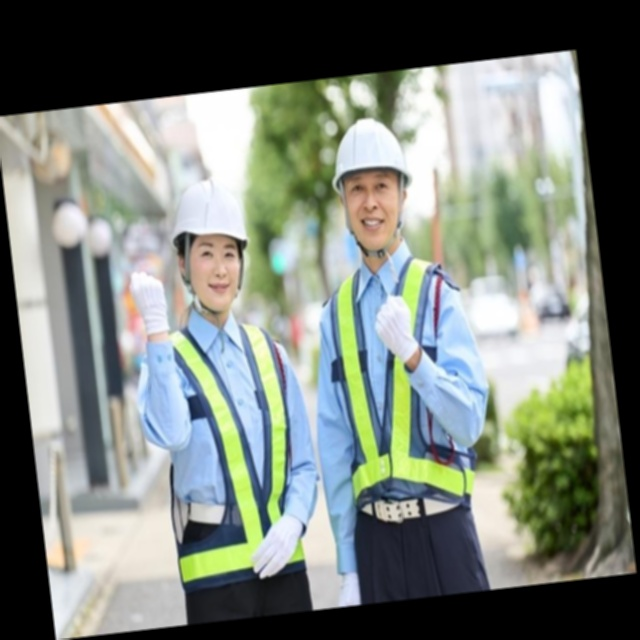Con_Casco: (325, 114, 419, 256), (167, 171, 253, 307)
Con_Chaleco: (149, 311, 304, 585), (324, 252, 474, 515)
